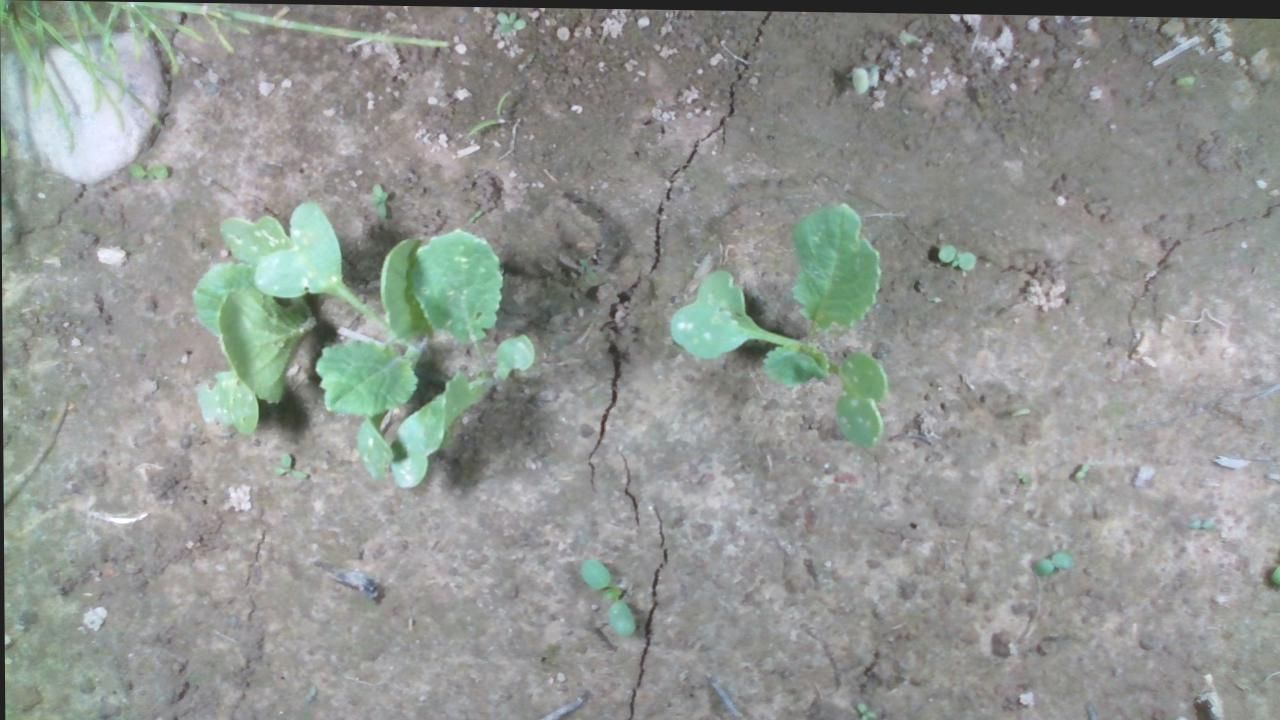weed: (576, 555, 635, 634), (463, 84, 511, 136), (268, 449, 309, 481), (933, 238, 974, 268), (1030, 545, 1073, 572), (364, 180, 388, 219), (494, 7, 526, 33), (126, 160, 169, 179), (1071, 454, 1090, 479)
